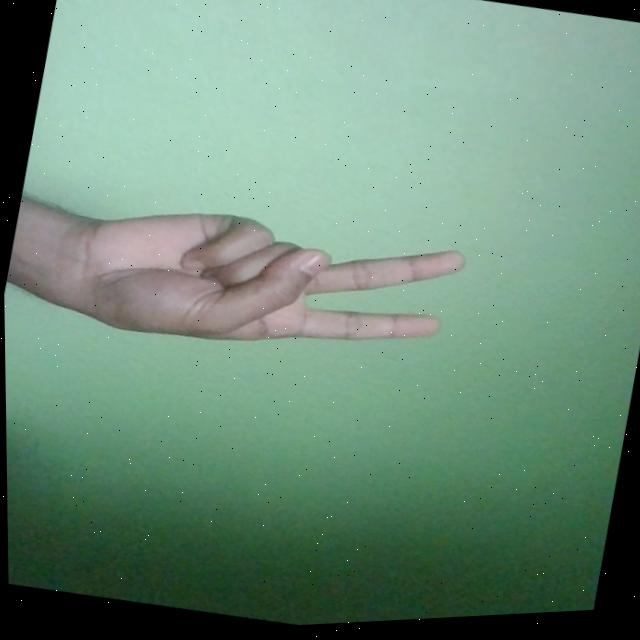Peace: (58, 177, 472, 396)
